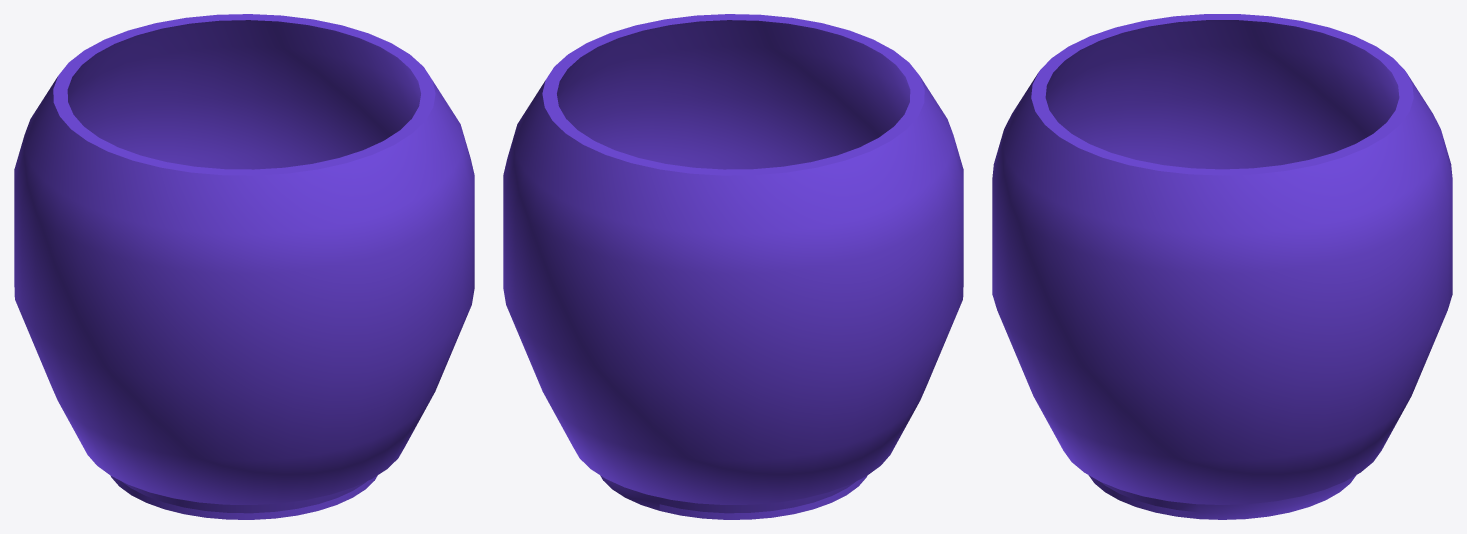
The picture shows the model from 3 angles, left to right: view 1: azimuth 30°, elevation 25°; view 2: azimuth 150°, elevation 25°; view 3: azimuth 270°, elevation 25°; orthographic projection.
Parts seen in each view (by area): view 1: split_parent_0; view 2: split_parent_0; view 3: split_parent_0.
Boxes of the visible parts, left/top/right/bottom form: split_parent_0: left=14, top=14, right=474, bottom=519; split_parent_0: left=503, top=14, right=963, bottom=519; split_parent_0: left=992, top=14, right=1452, bottom=519.
Size of the model in its own units: 0.9991 by 0.8793 by 1.
